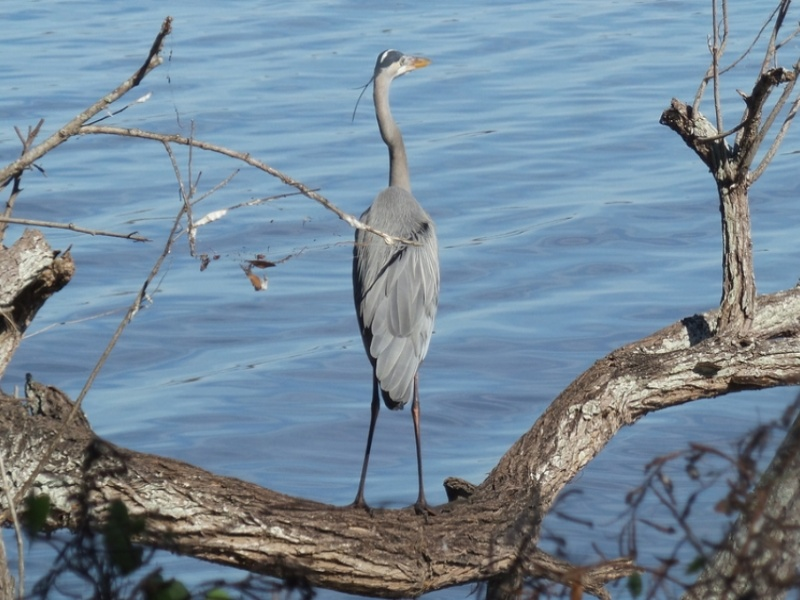heron: (347, 46, 443, 519)
